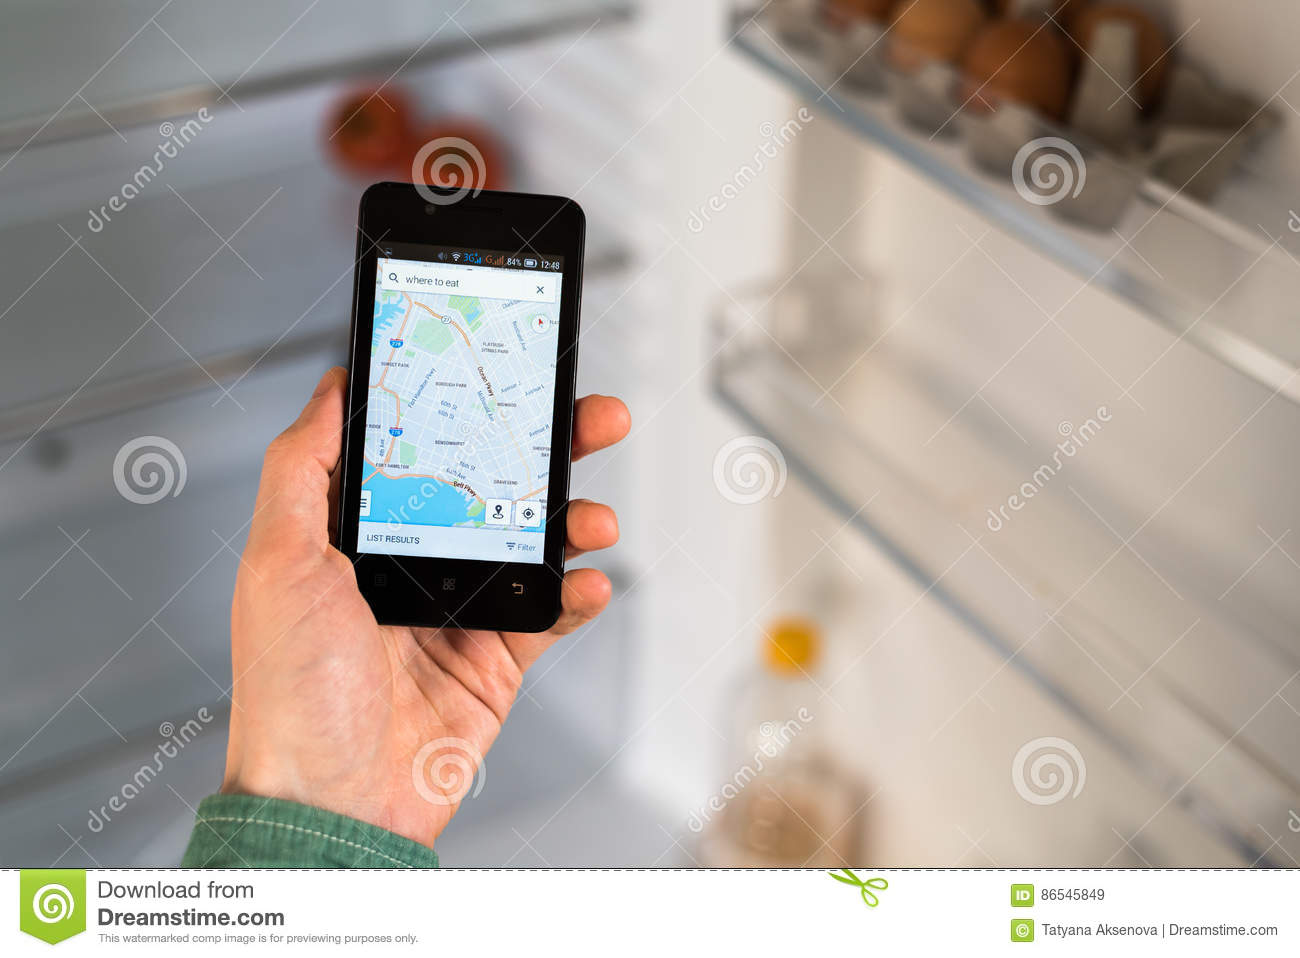smartphone: (332, 182, 591, 633)
